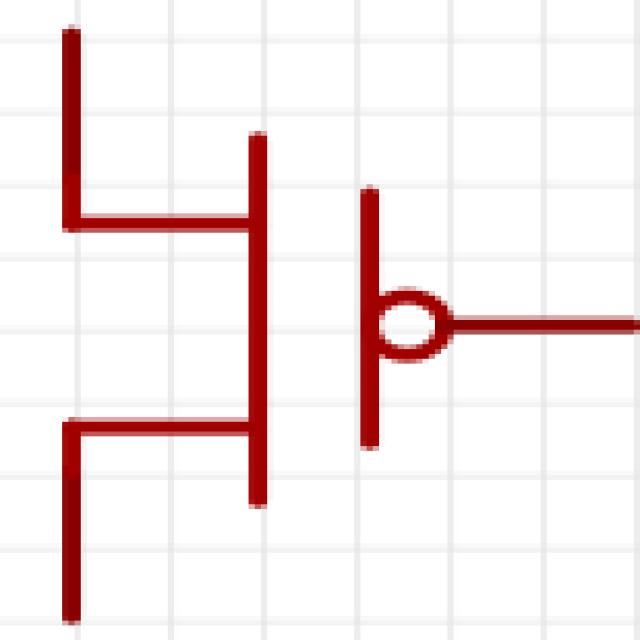pmos: (6, 48, 640, 548)
